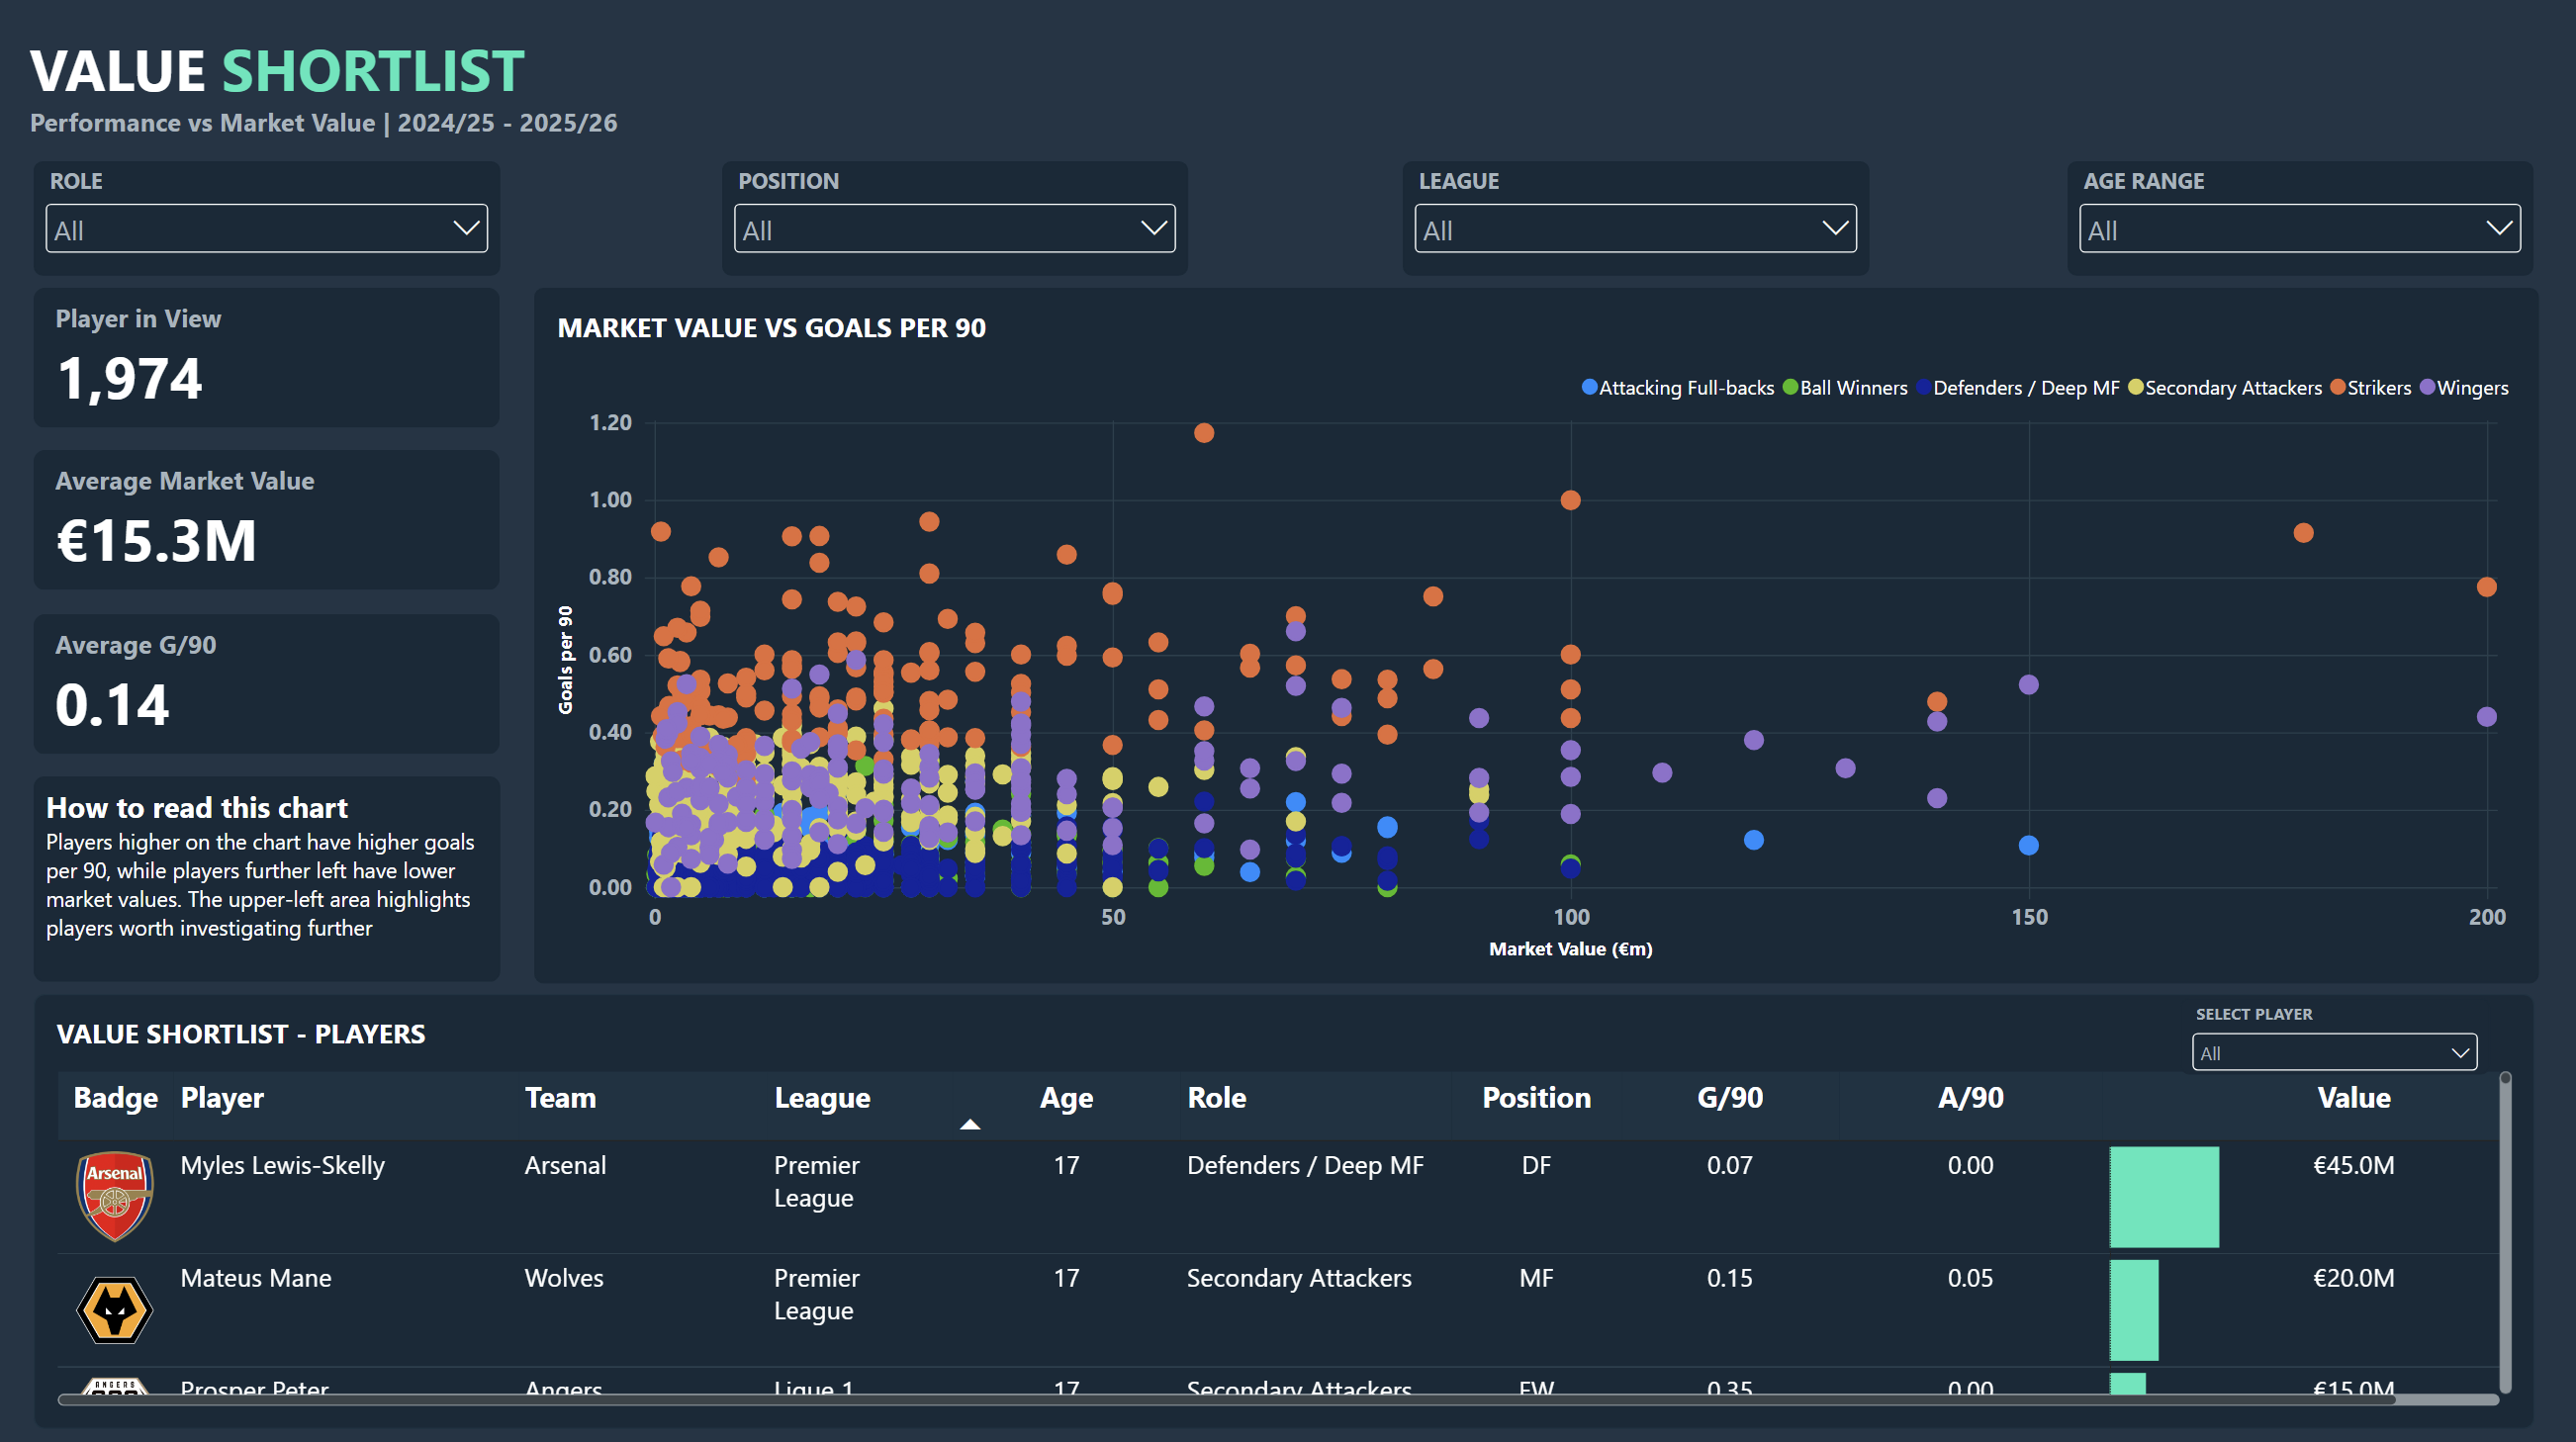

The page's visual inventory and layout, read from the dashboard file:
{"tool":"powerbi","page":{"name":"Value Shortlist","canvas":[1920,1080],"ordinal":2},"visuals":[{"type":"textbox","box":[23.4,23.4,1876.5,86.9],"z":0},{"type":"slicer","fields":{"Values":["Profiles.Role Short"]},"box":[26.7,121.2,346.7,85],"z":1000},{"type":"slicer","fields":{"Values":["Seasons.Position Group"]},"box":[538.2,121.2,346,85],"z":2000},{"type":"slicer","fields":{"Values":["Profiles.League"]},"box":[1042.4,121.2,346.7,85],"z":3000},{"type":"slicer","fields":{"Values":["Profiles.Age Range Display"]},"box":[1537,121.2,346,85],"z":4000},{"type":"cardVisual","fields":{"Data":["Count(Profiles.Player)"]},"box":[26.7,215.8,346.7,104.2],"z":5000},{"type":"cardVisual","fields":{"Data":["Profiles.Average Market Value"]},"box":[26.7,337,346.7,104.2],"z":6000},{"type":"cardVisual","fields":{"Data":["Avg(Profiles.Goals per 90)"]},"box":[26.7,458.2,346.7,104.2],"z":7000},{"type":"textbox","box":[26.7,579.4,346.7,152.7],"z":8000},{"type":"tableEx","title":"VALUE SHORTLIST - PLAYERS","fields":{"Values":["Profiles.badge_url","Profiles.Player","Profiles.Team","Profiles.League","Profiles.Age","Profiles.Role Short","Profiles.Position Group","Profiles.Goals per 90","Profiles.Assists per 90","Avg(Profiles.Value (EURm))"]},"box":[26.7,741,1857,323],"z":9000},{"type":"scatterChart","title":"MARKET VALUE VS GOALS PER 90","fields":{"Category":["Profiles.Player"],"Series":["Profiles.Role Short"],"X":["Avg(Profiles.Value (EURm))"],"Y":["Avg(Profiles.Goals per 90)"]},"box":[397.6,215.8,1488.5,516.4],"z":10000},{"type":"slicer","fields":{"Values":["Profiles.Player"]},"box":[1620,742.9,230,57.1],"z":12000}]}

Visuals, with their boxes in screenshot pixels (x1, y1, x2, y2), scaled from the page's 1920x1080 canvas onto the 2576x1442 screenshot:
textbox: Rect(32, 32, 2549, 147)
slicer - Profiles.Role Short: Rect(36, 162, 501, 275)
slicer - Seasons.Position Group: Rect(722, 162, 1186, 275)
slicer - Profiles.League: Rect(1399, 162, 1864, 275)
slicer - Profiles.Age Range Display: Rect(2063, 162, 2527, 275)
cardVisual - Count(Profiles.Player): Rect(36, 288, 501, 427)
cardVisual - Profiles.Average Market Value: Rect(36, 450, 501, 589)
cardVisual - Avg(Profiles.Goals per 90): Rect(36, 612, 501, 751)
textbox: Rect(36, 773, 501, 977)
"VALUE SHORTLIST - PLAYERS" tableEx: Rect(36, 989, 2528, 1420)
"MARKET VALUE VS GOALS PER 90" scatterChart: Rect(533, 288, 2530, 977)
slicer - Profiles.Player: Rect(2173, 992, 2482, 1068)
